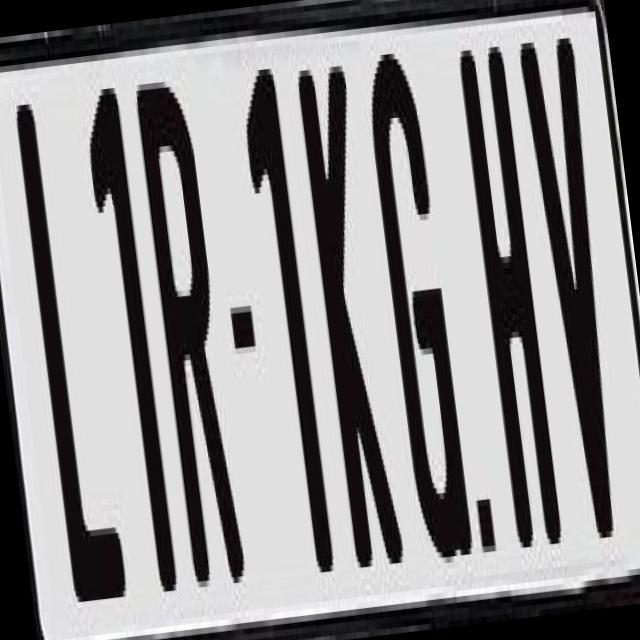1: (76, 69, 183, 589), (237, 62, 339, 580)
G: (358, 45, 474, 594)
H: (456, 26, 572, 554)
K: (294, 58, 415, 597)
L: (9, 93, 130, 614)
V: (518, 35, 640, 557)
